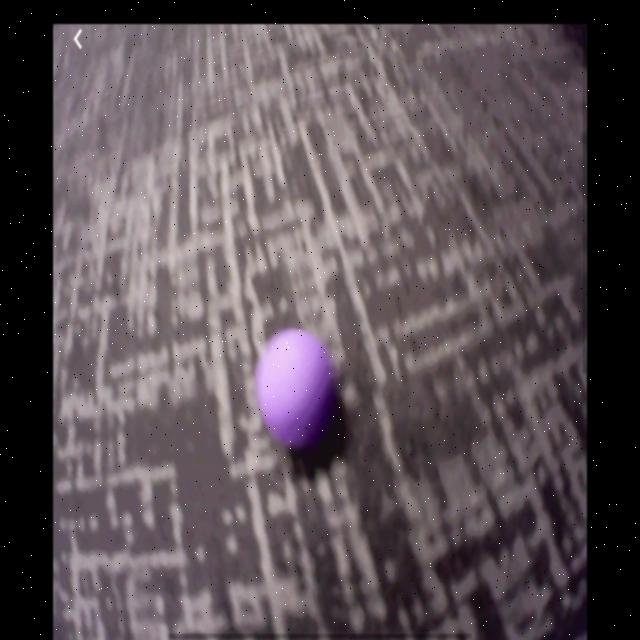ball: (259, 327, 335, 440)
